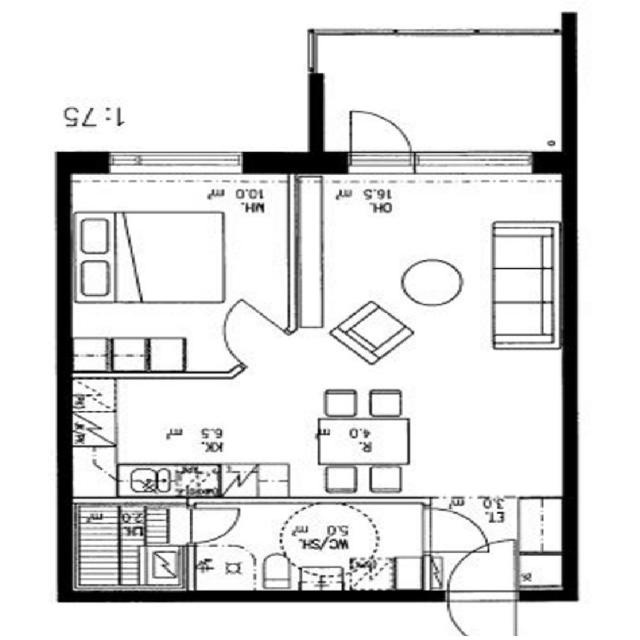door: (440, 547, 520, 639), (343, 106, 418, 170), (419, 500, 492, 557), (185, 502, 243, 548), (222, 294, 285, 336)
window: (324, 11, 560, 40), (410, 141, 544, 180), (95, 146, 254, 178)
zone: (69, 352, 568, 498), (288, 177, 564, 350), (69, 172, 294, 351), (74, 501, 442, 597), (318, 418, 410, 466)
